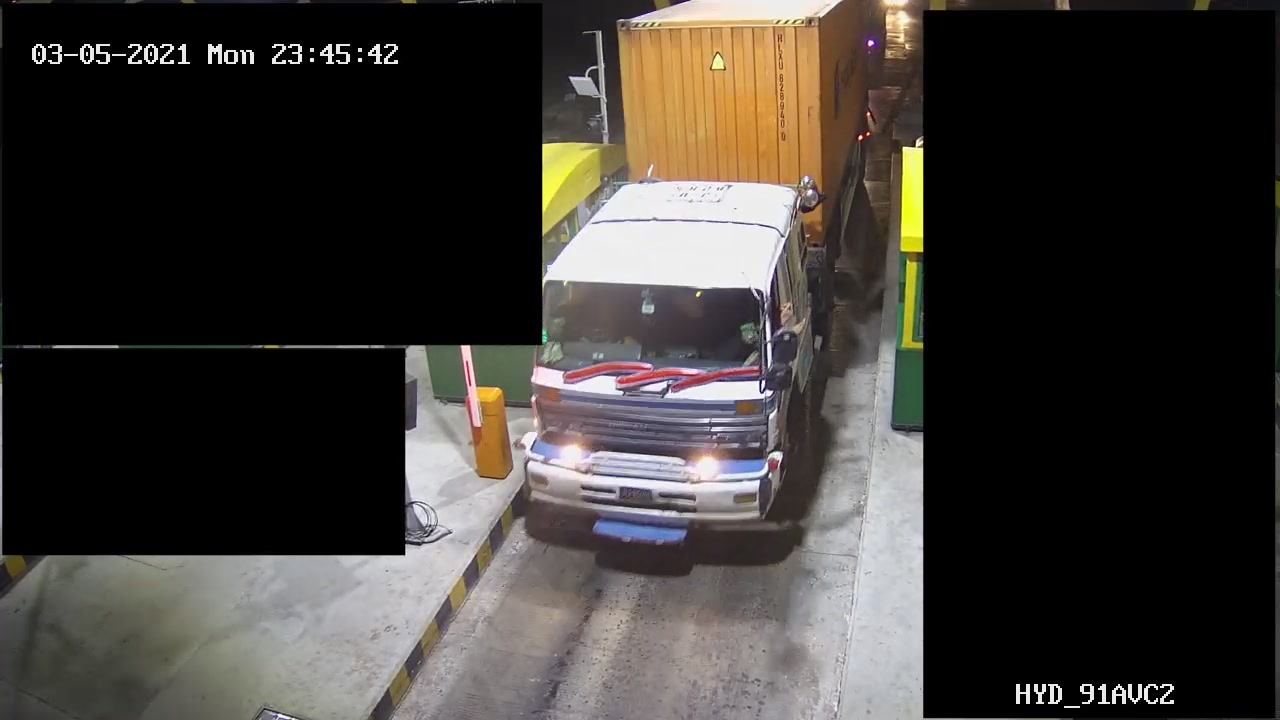F6: (518, 1, 894, 548)
